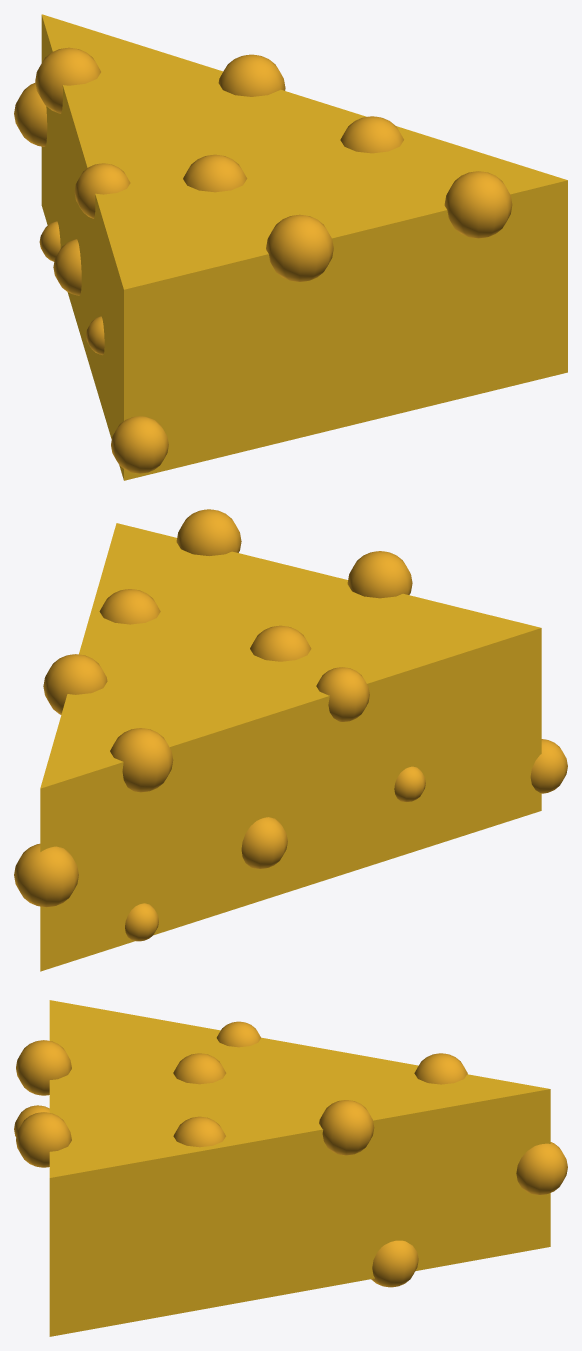
File: queso.fbx
The picture shows the model from 3 angles, top to bottom: view 1: azimuth 30°, elevation 25°; view 2: azimuth 150°, elevation 25°; view 3: azimuth 270°, elevation 25°; orthographic projection. The views are drawn at different scales.
Visible parts, largest first — view 1: Cubo.003, Esfera.010; view 2: Cubo.003, Esfera.010; view 3: Cubo.003, Esfera.010.
Part boxes in pixels (x1,y1,x2,y2): Cubo.003: (41,14,567,480); Esfera.010: (14,47,512,473); Cubo.003: (40,523,541,971); Esfera.010: (14,509,567,941); Cubo.003: (49,1000,550,1336); Esfera.010: (14,1021,567,1287).
Bounding box in the file's own units: 0.7463 × 0.3737 × 0.9412.
